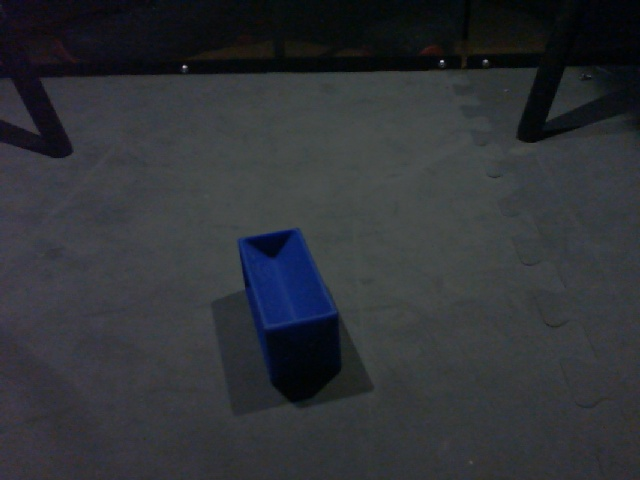BlueSample: (230, 225, 349, 387)
